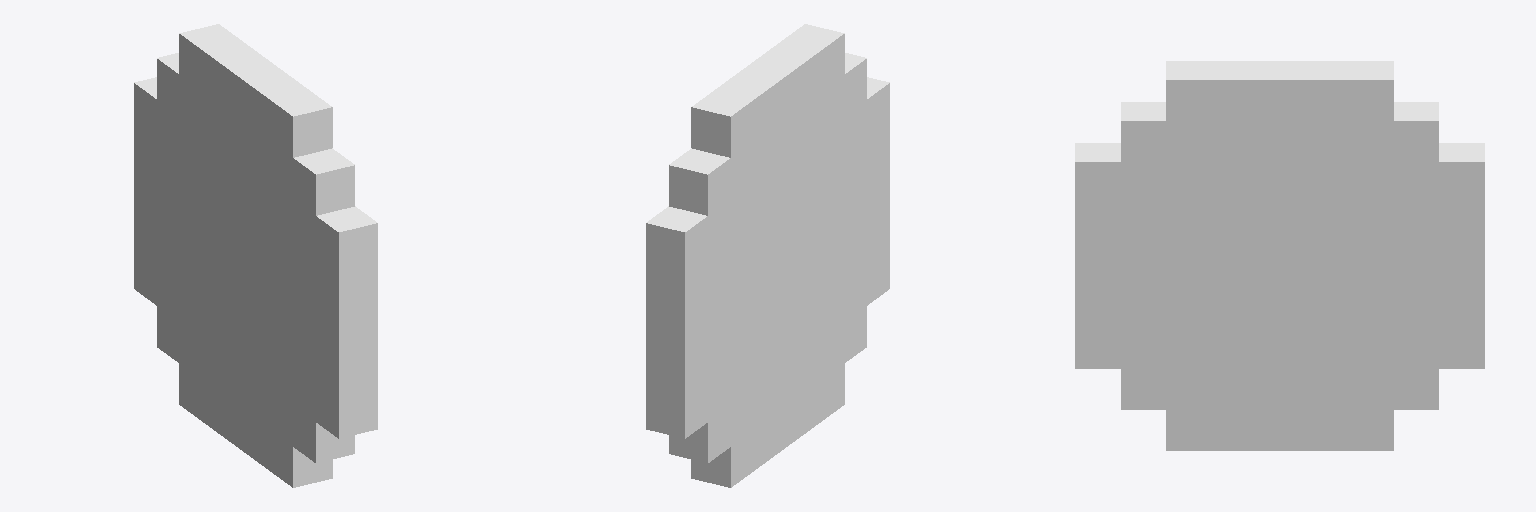
Rendered from Respawn3.obj.
3 renders of one model, left to right at view 1: azimuth 30°, elevation 25°; view 2: azimuth 150°, elevation 25°; view 3: azimuth 270°, elevation 25°, orthographic.
Visible parts, largest first — view 1: object 1; view 2: object 1; view 3: object 1.
Boxes of the visible parts, box(x1,y1,x2,y2) form: object 1: box(134, 24, 377, 487); object 1: box(646, 24, 889, 487); object 1: box(1075, 61, 1484, 450).
Bounding box in the file's own units: 0.1 × 0.9 × 0.9.